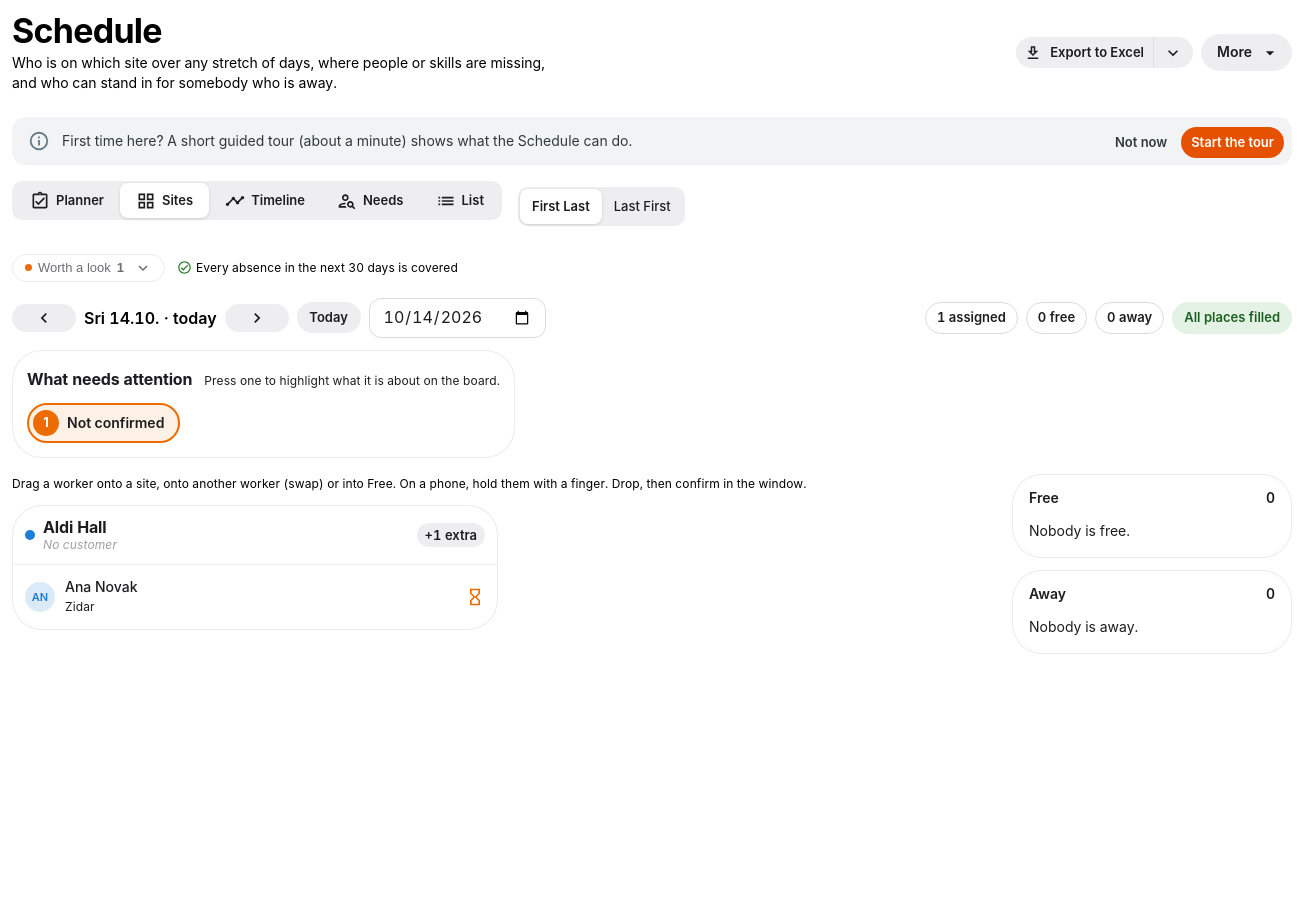
Test case: PlanningPage › warns about somebody posted to two sites on the same days, and about days after a site ends
Click the button "Worth a look 1". click: (88, 268)
box: [12, 254, 165, 282]
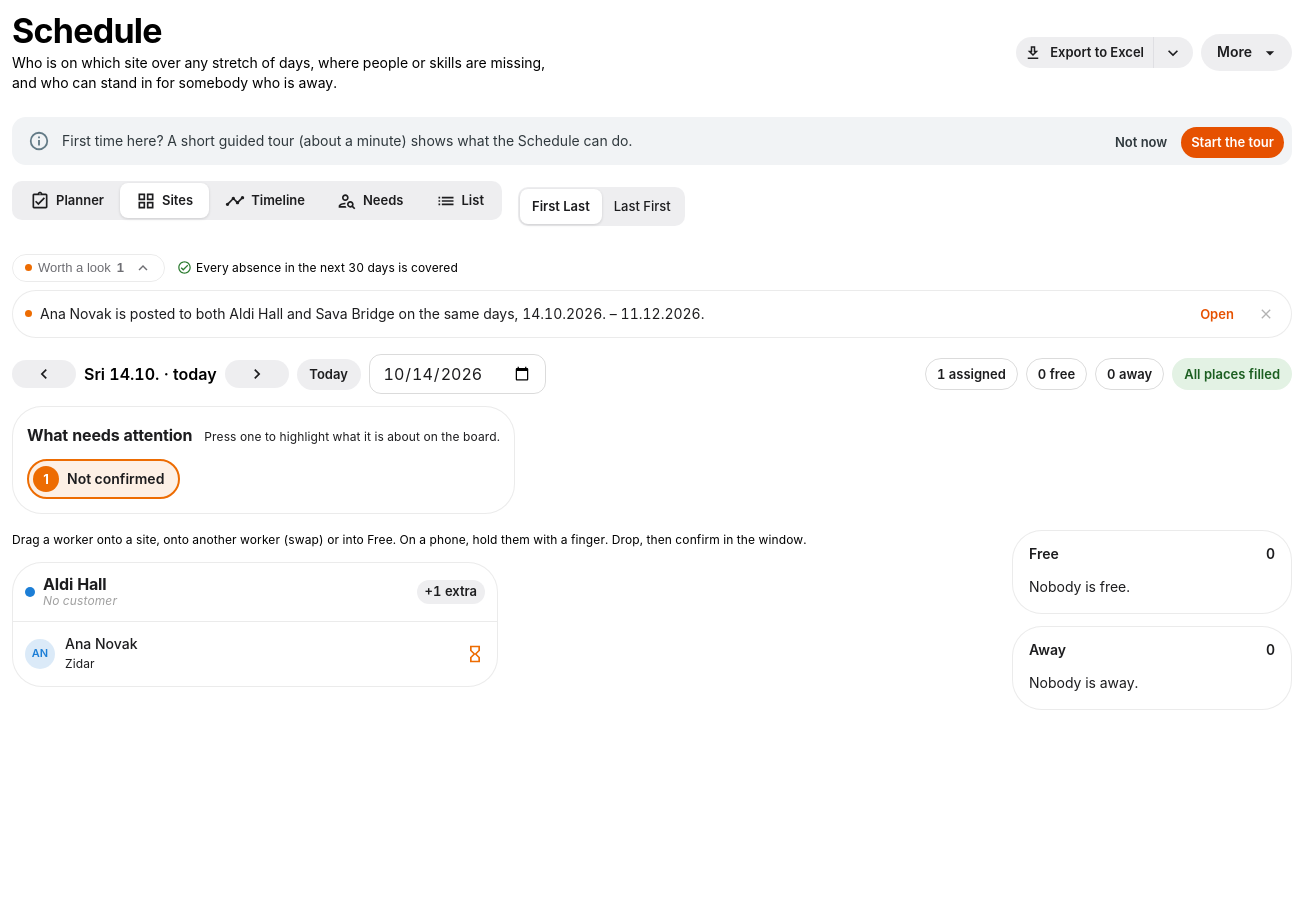
Expected: the text "Ana Novak is posted to both Aldi Hall and Sava Bridge" is shown, [40, 305, 704, 322]
